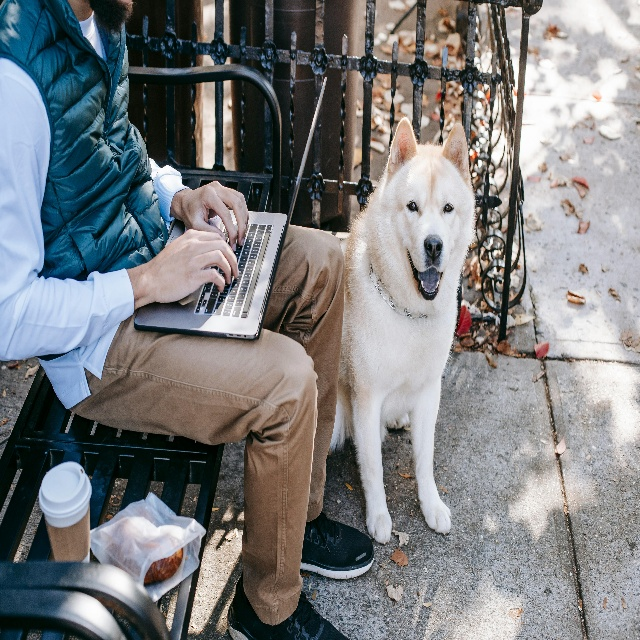Sin_guantes: (150, 228, 239, 304), (182, 178, 250, 249)
